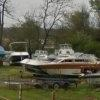Boat: (22, 46, 99, 84)
